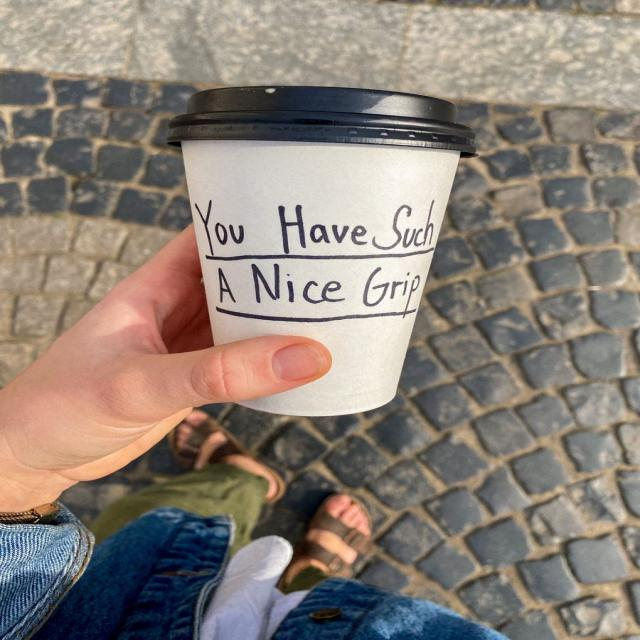paper cup: (171, 85, 480, 416)
